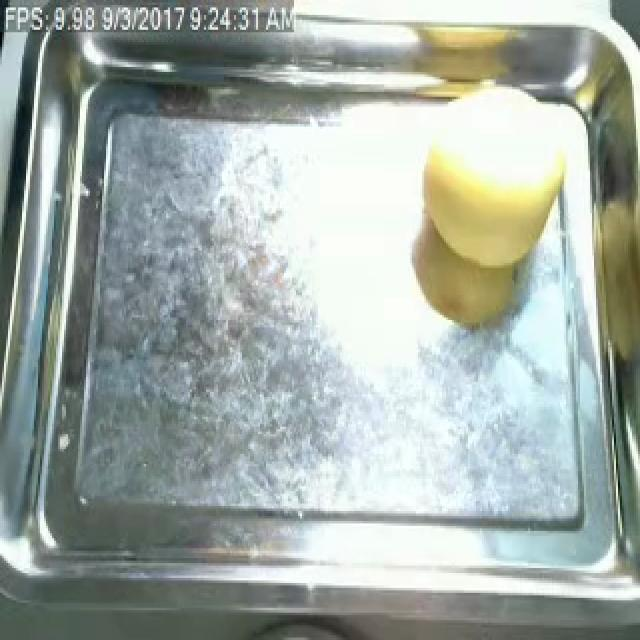Fruit: (410, 129, 586, 278)
